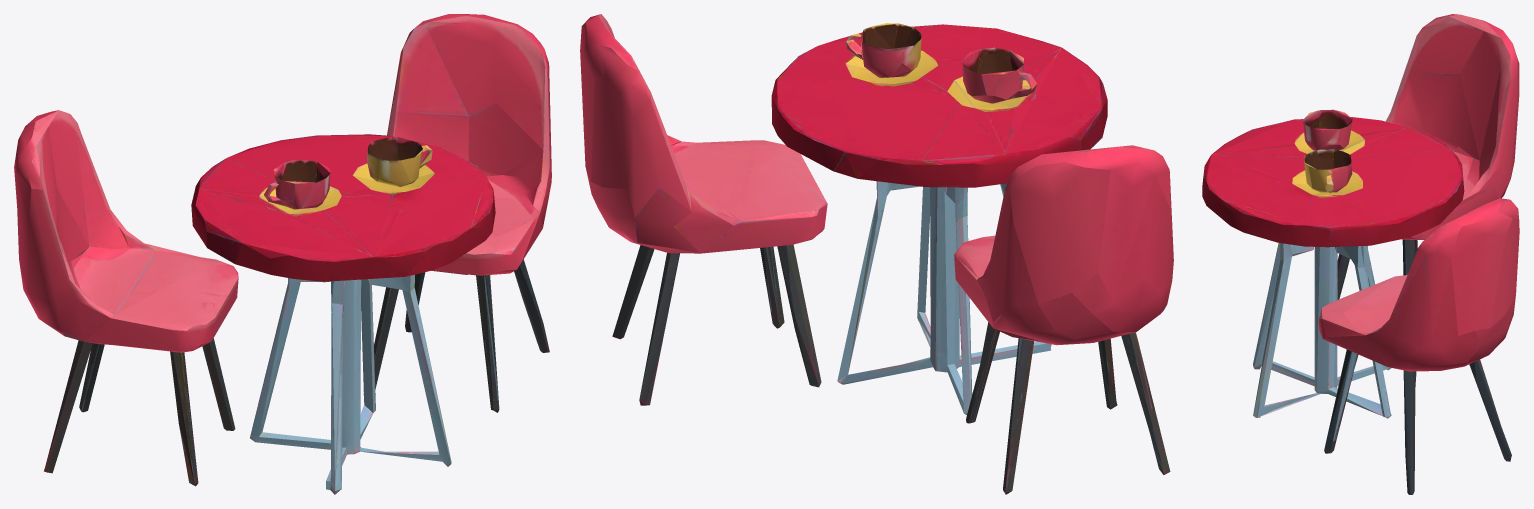
The model's file is cafe_table.glb.
The picture shows the model from 3 angles, left to right: view 1: azimuth 30°, elevation 25°; view 2: azimuth 150°, elevation 25°; view 3: azimuth 270°, elevation 25°; orthographic projection. The views are drawn at different scales.
Size of the model in its own units: 1.9 by 1.11 by 1.14.
1 material, 1 textured.
